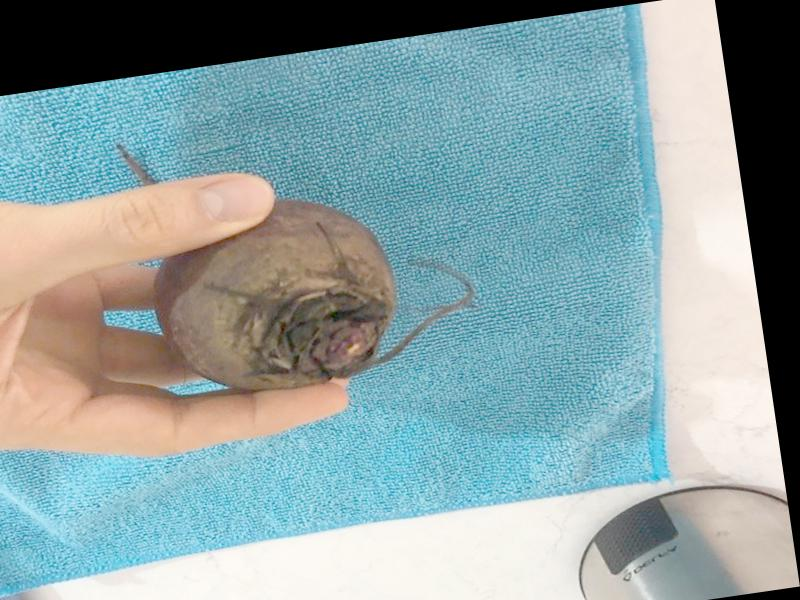Beet: (117, 97, 480, 406)
